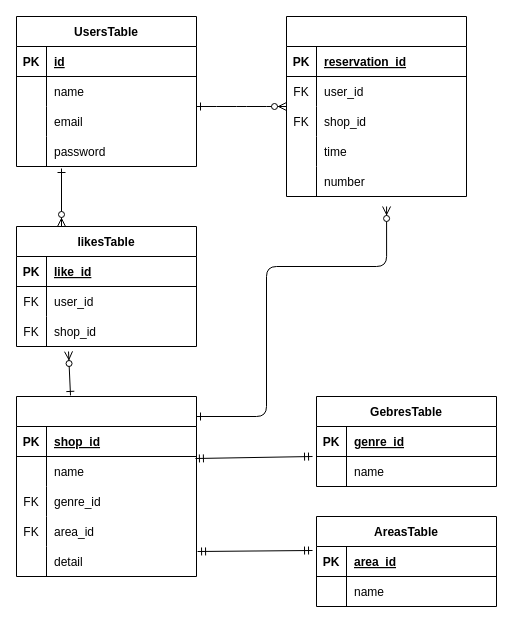
Some shapes in this 513 by 623 pixel diagram are drawn without their labels. The shapes that lost their labels are listed below. From the top down, each one's box as (x1, y1, x2, y2) in pixels, then its label:
(286, 16, 466, 196): ReservationsTable
(16, 396, 196, 576): ShopsTable
